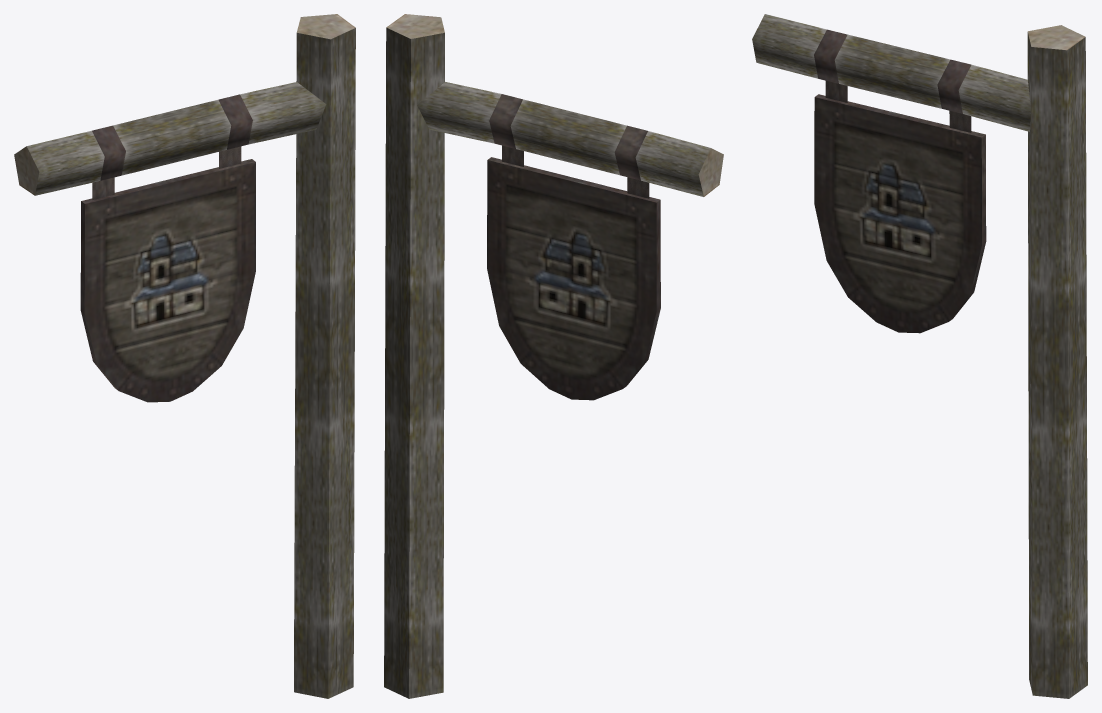
The model's file is d_sgsj_shouyou_zhaopai01_jz.FBX.
3 views of the same model, side by side, from view 1: azimuth 30°, elevation 25°; view 2: azimuth 150°, elevation 25°; view 3: azimuth 330°, elevation 25° (orthographic).
Visible parts, largest first — view 1: d_sgsj_shouyou_xiangzi01_qt; view 2: d_sgsj_shouyou_xiangzi01_qt; view 3: d_sgsj_shouyou_xiangzi01_qt.
Boxes of the visible parts, bbox=[...] form: d_sgsj_shouyou_xiangzi01_qt: bbox=[14, 14, 355, 698]; d_sgsj_shouyou_xiangzi01_qt: bbox=[384, 14, 723, 698]; d_sgsj_shouyou_xiangzi01_qt: bbox=[752, 14, 1087, 698].
Size of the model in its own units: 73.07 by 145 by 12.93.
